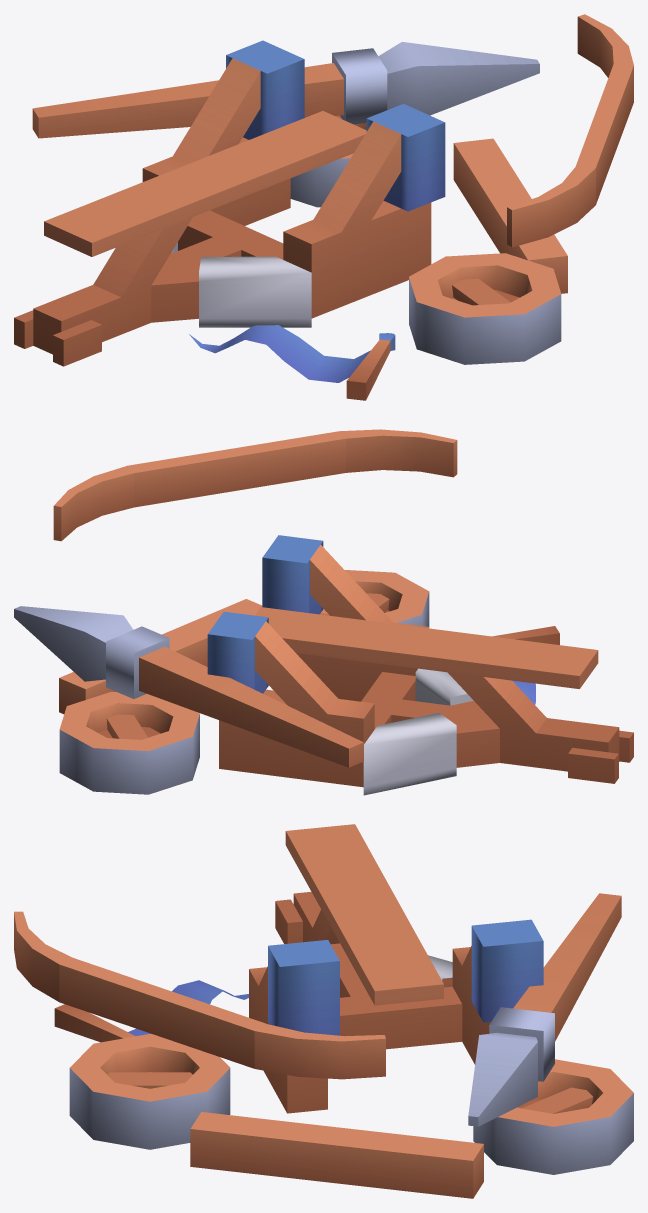
Rendered from siege-ballista-demolished.obj.
3 views of the same model, one above another, from view 1: azimuth 30°, elevation 25°; view 2: azimuth 150°, elevation 25°; view 3: azimuth 270°, elevation 25° (orthographic). The views are drawn at different scales.
Visible parts, largest first — view 1: siege-ballista-demolished; view 2: siege-ballista-demolished; view 3: siege-ballista-demolished.
Boxes of the visible parts, x1,y1,x2,y2 form: siege-ballista-demolished: (14, 14, 633, 400); siege-ballista-demolished: (14, 429, 633, 795); siege-ballista-demolished: (14, 824, 633, 1198).
Size of the model in its own units: 1.75 by 0.5097 by 1.55.
Materials: 1 (1 with a texture image).
